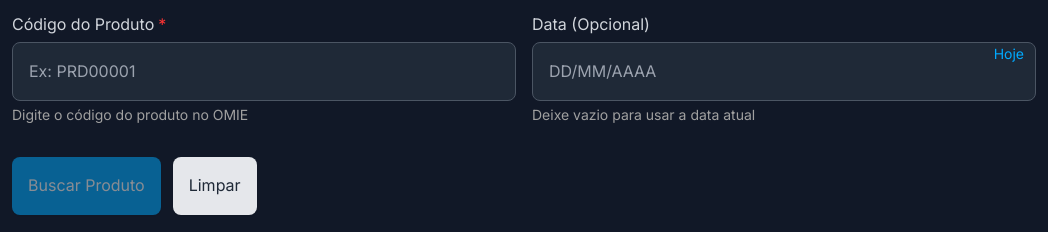
Scenario: ProductSearch Component › should enable submit button when product code is provided
Type "PRD001" into the field labelled "Código do Produto*" at (264, 71), box [12, 42, 516, 101]
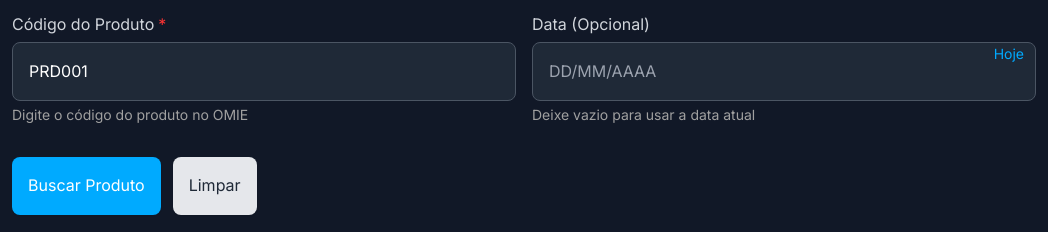
Check: the button "Buscar Produto" is enabled, box [12, 157, 161, 215]
